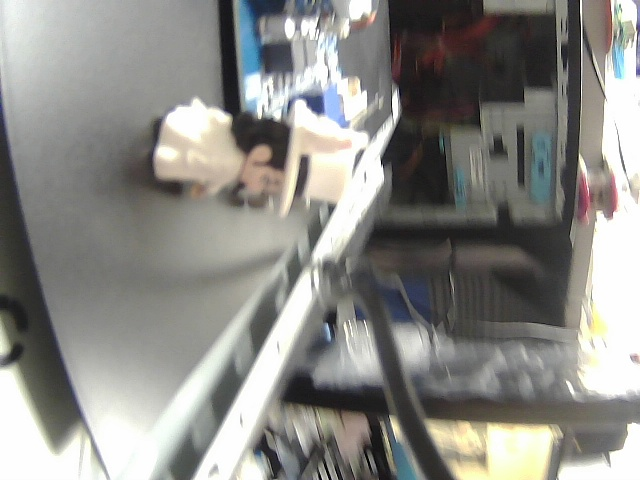lucci: (147, 90, 381, 231)
